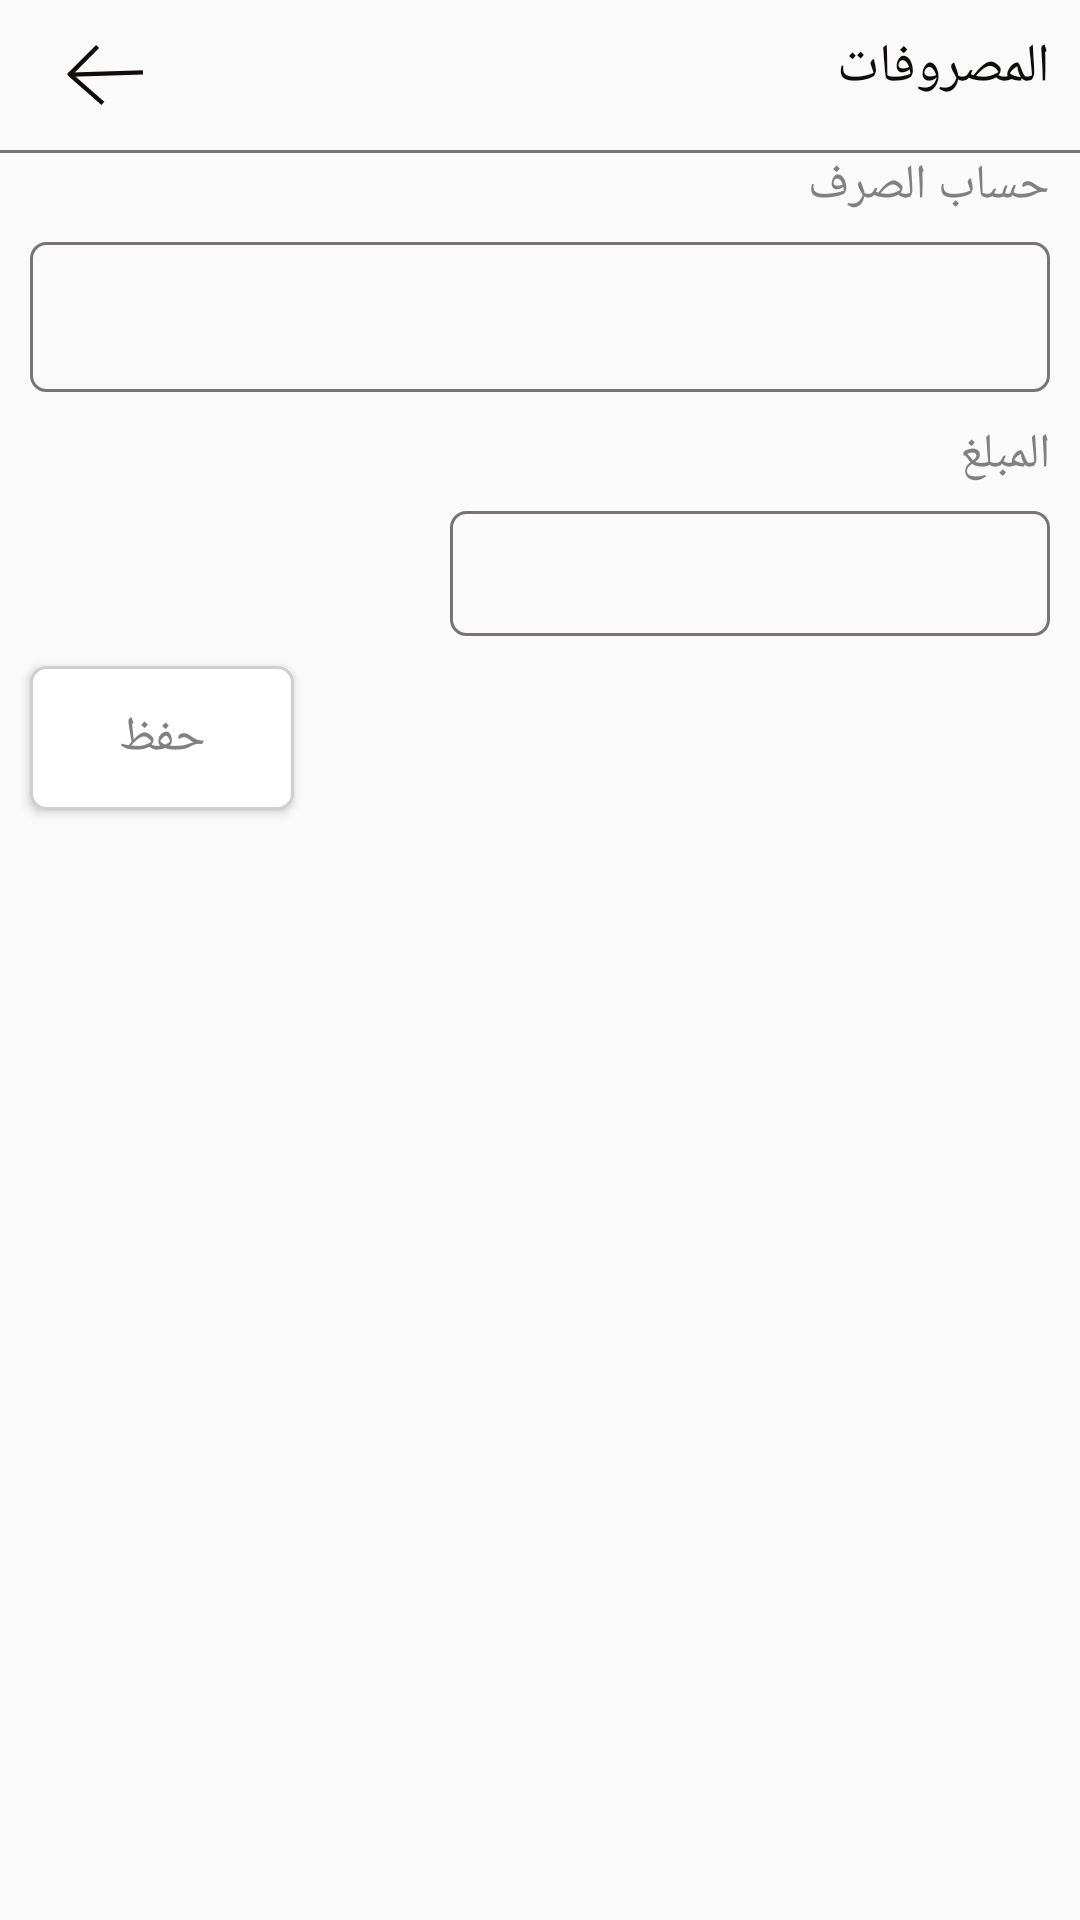

Screen size 1080*1920. Icon name, then its center in pixels as point (x, y):
back: point (105, 75)
